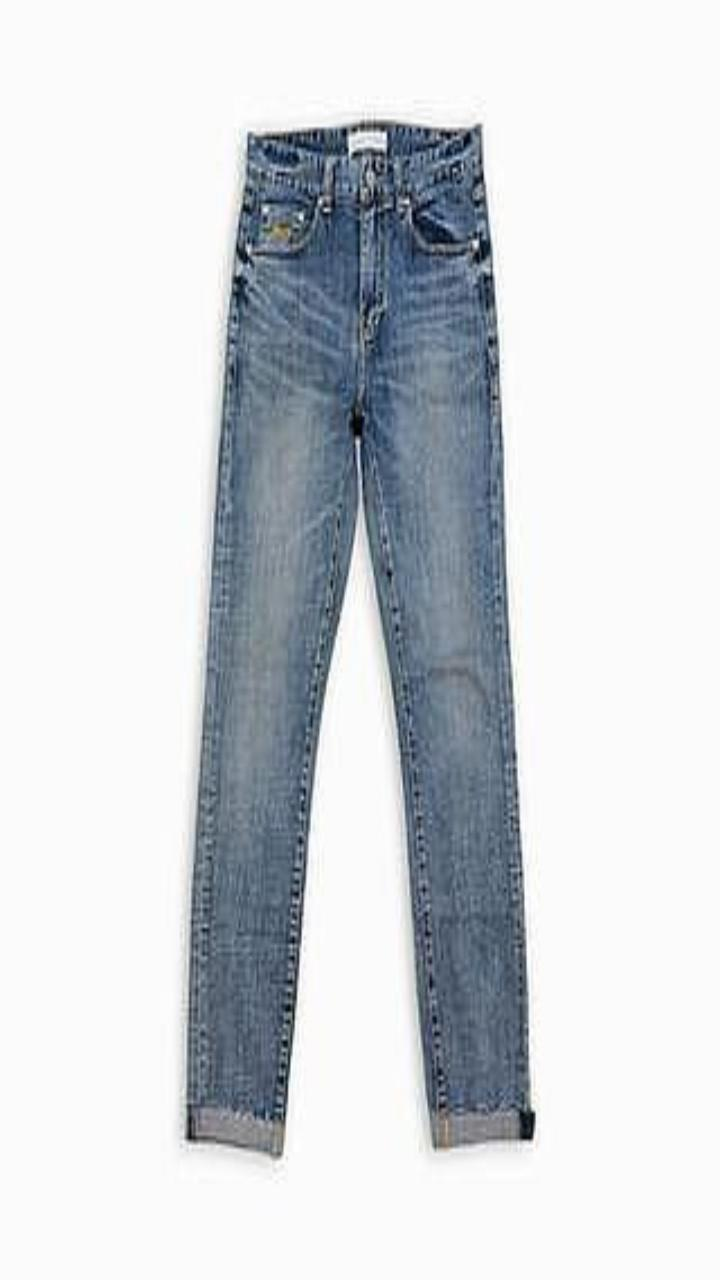Jeans: (187, 122, 533, 1155)
